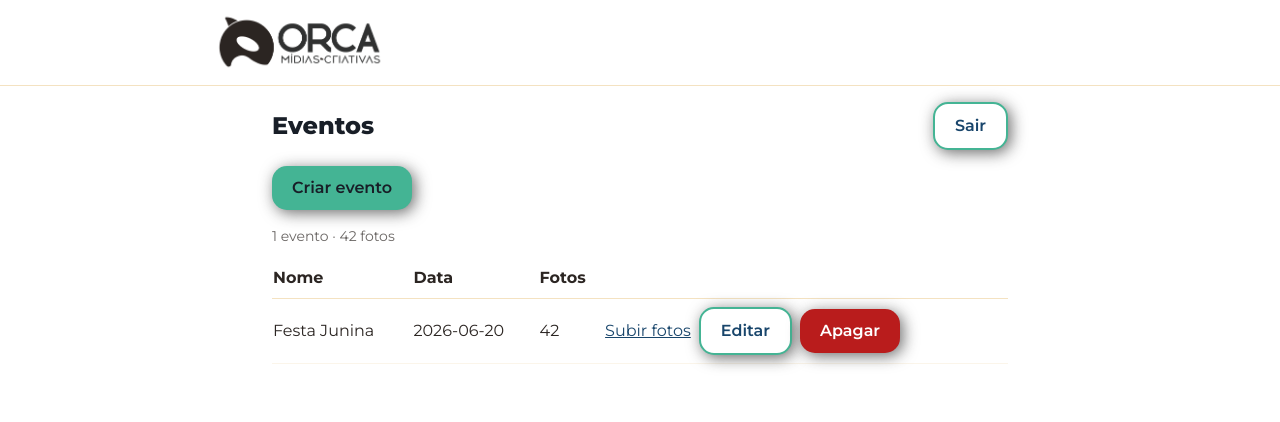
Test: AdminEventsPage › shows an error message when delete fails due to a network error, without crashing
Expected: the text "Festa Junina" is shown, x1=272 y1=298 x2=412 y2=363
Step 1. Click the button "Apagar" → coordinates (850, 331), box x1=800 y1=309 x2=900 y2=353
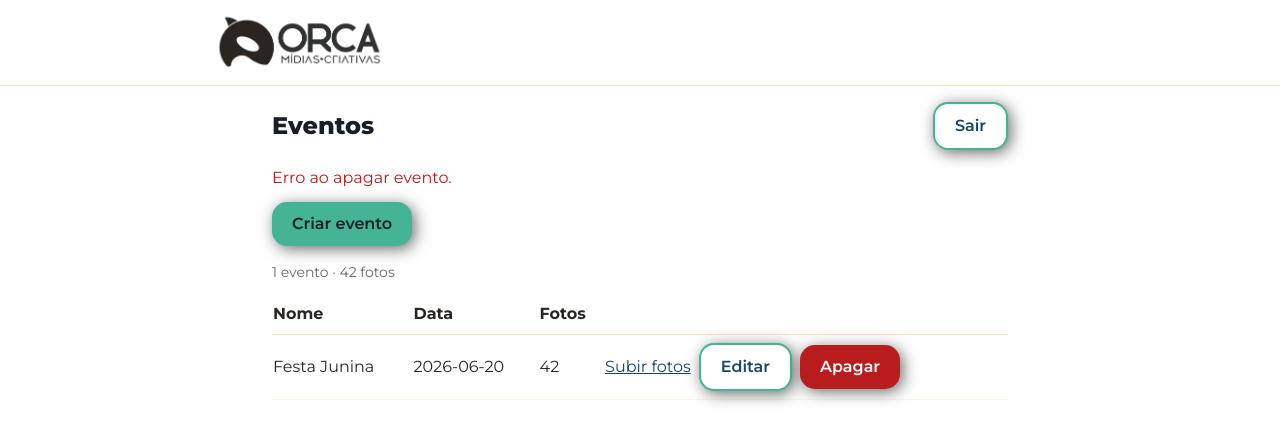
Now the message "Erro ao apagar evento." is shown, box x1=272 y1=168 x2=452 y2=187
